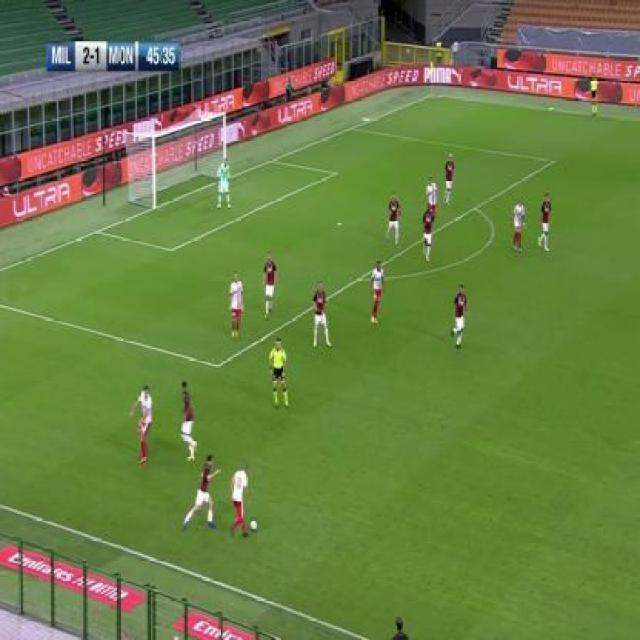player: (181, 455, 220, 537), (177, 379, 200, 464), (129, 386, 154, 462), (227, 464, 250, 540), (269, 336, 291, 412), (313, 279, 333, 353), (450, 281, 469, 352), (262, 250, 278, 321), (228, 269, 244, 340), (369, 260, 386, 326), (536, 193, 553, 253), (511, 195, 528, 254), (216, 156, 232, 212), (385, 191, 401, 247), (421, 203, 435, 262), (442, 151, 456, 207), (424, 176, 438, 205), (591, 72, 599, 118)
